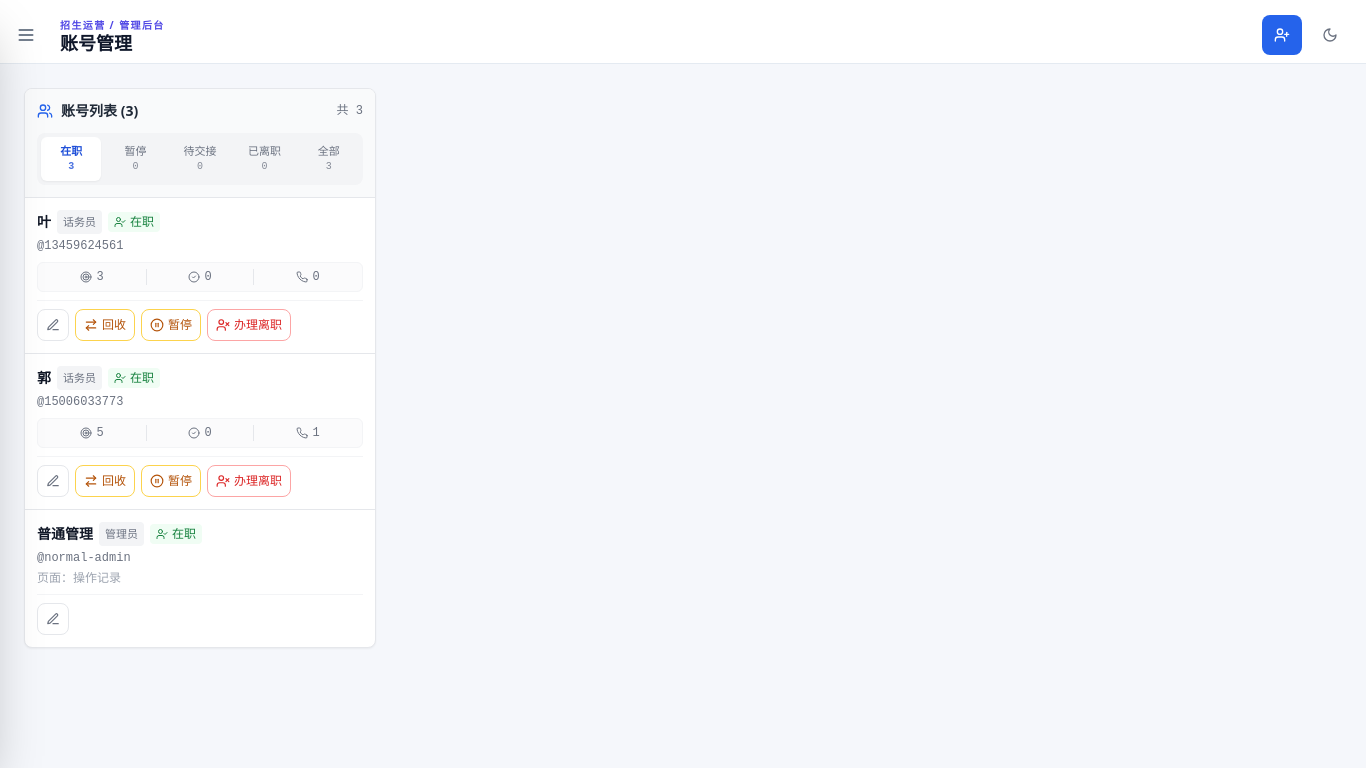
Test case: AgentManage mobile navigation › does not save status words as account display names
Expected: the text "叶" is shown, [37,212,51,232]
Click the button named "添加账号" at (1282, 35), box [1262,15,1302,55]
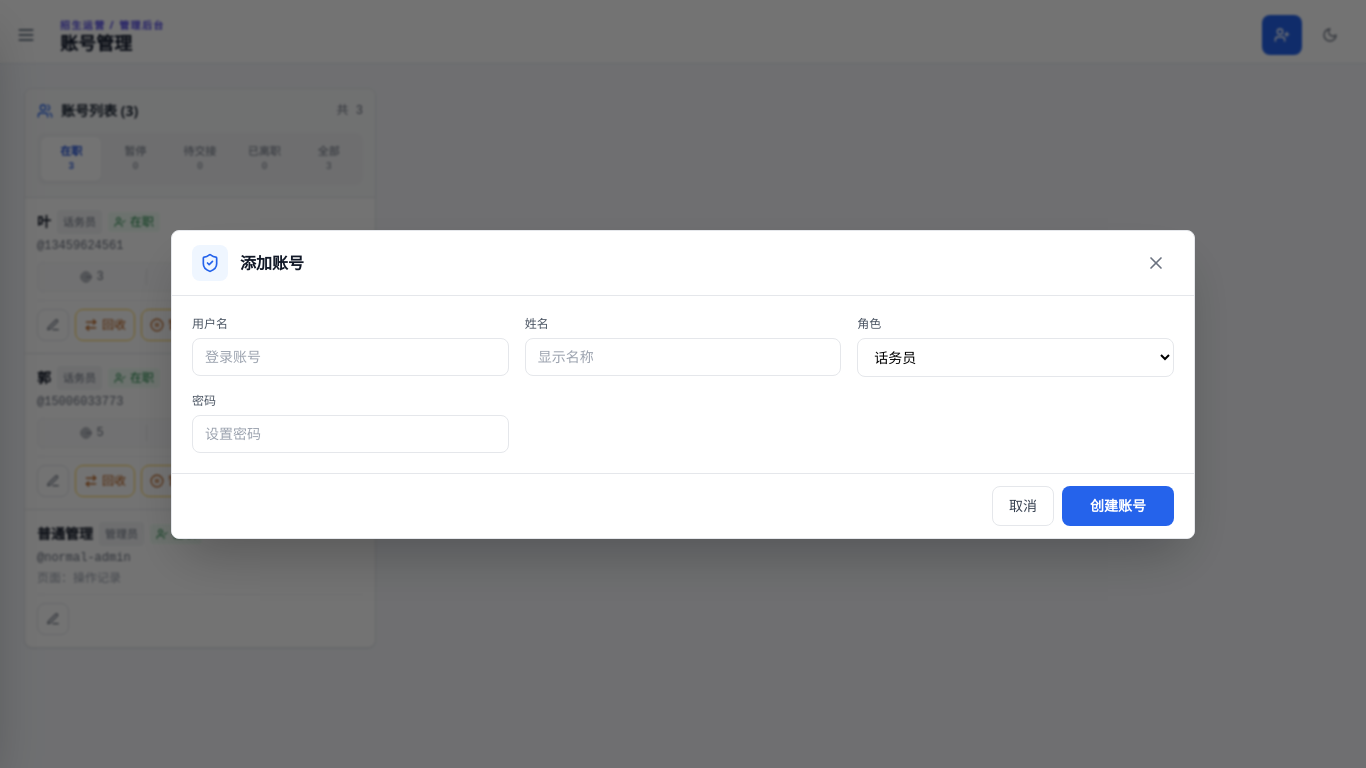
Type "bad-name" into the field with placeholder "登录账号" at (350, 356), box [192,338,509,376]
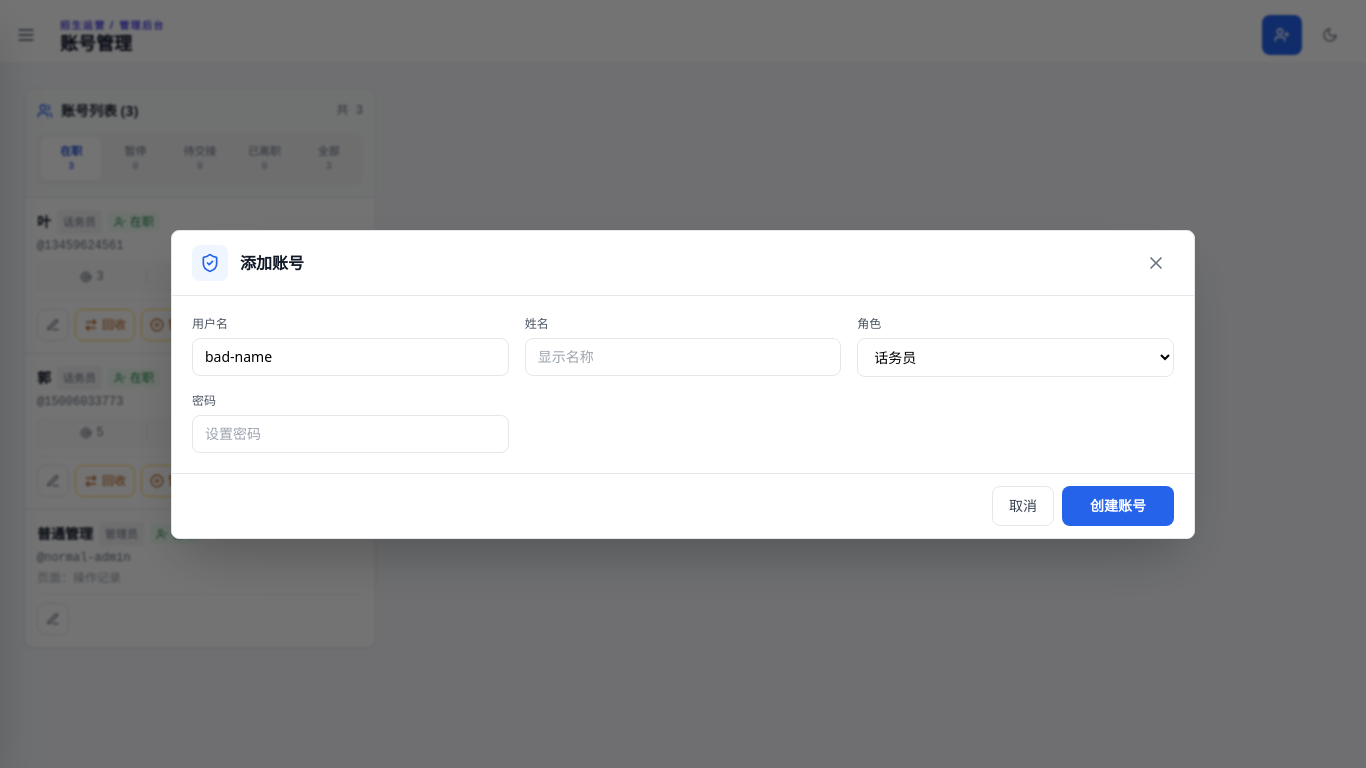
Type "离职" into the field with placeholder "显示名称" at (683, 356), box [525,338,841,376]
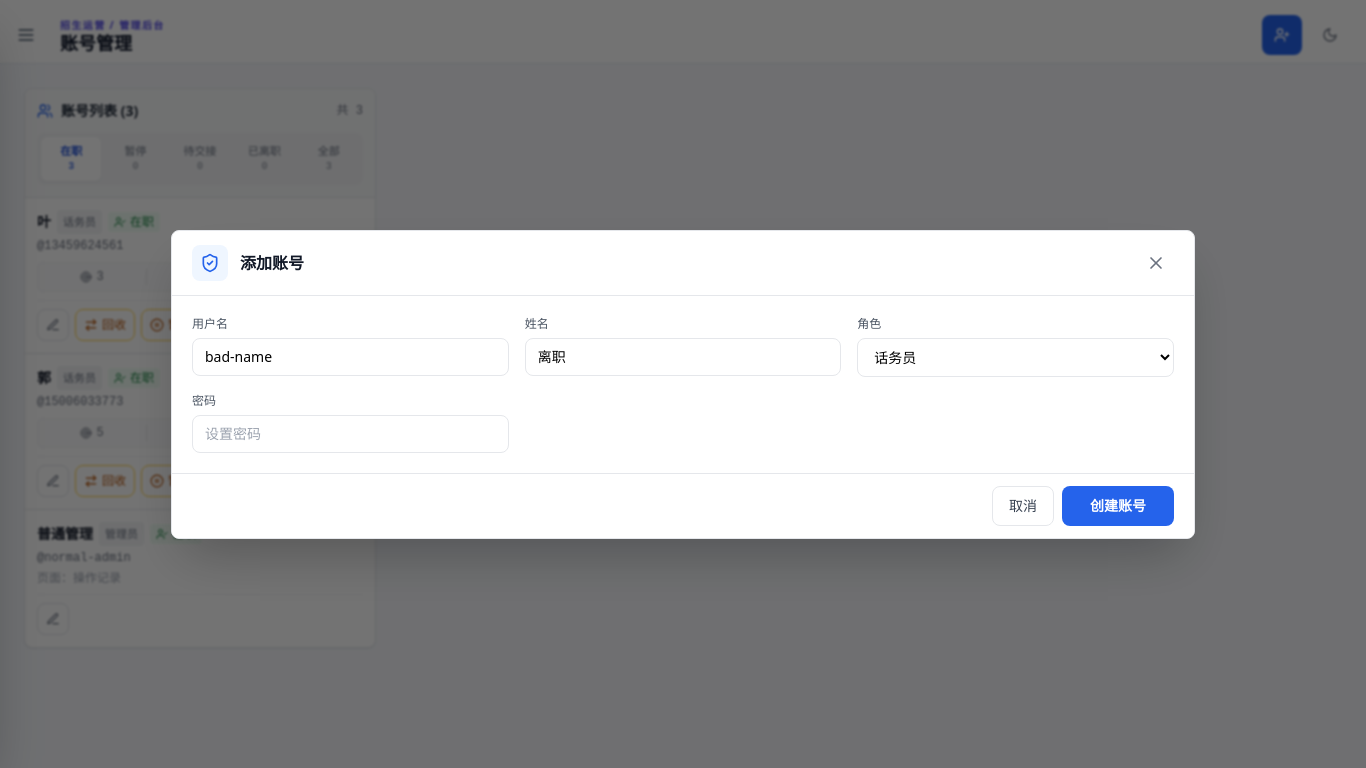
Type "pw123456" into the password field with placeholder "设置密码" at (350, 434), box [192,414,509,452]
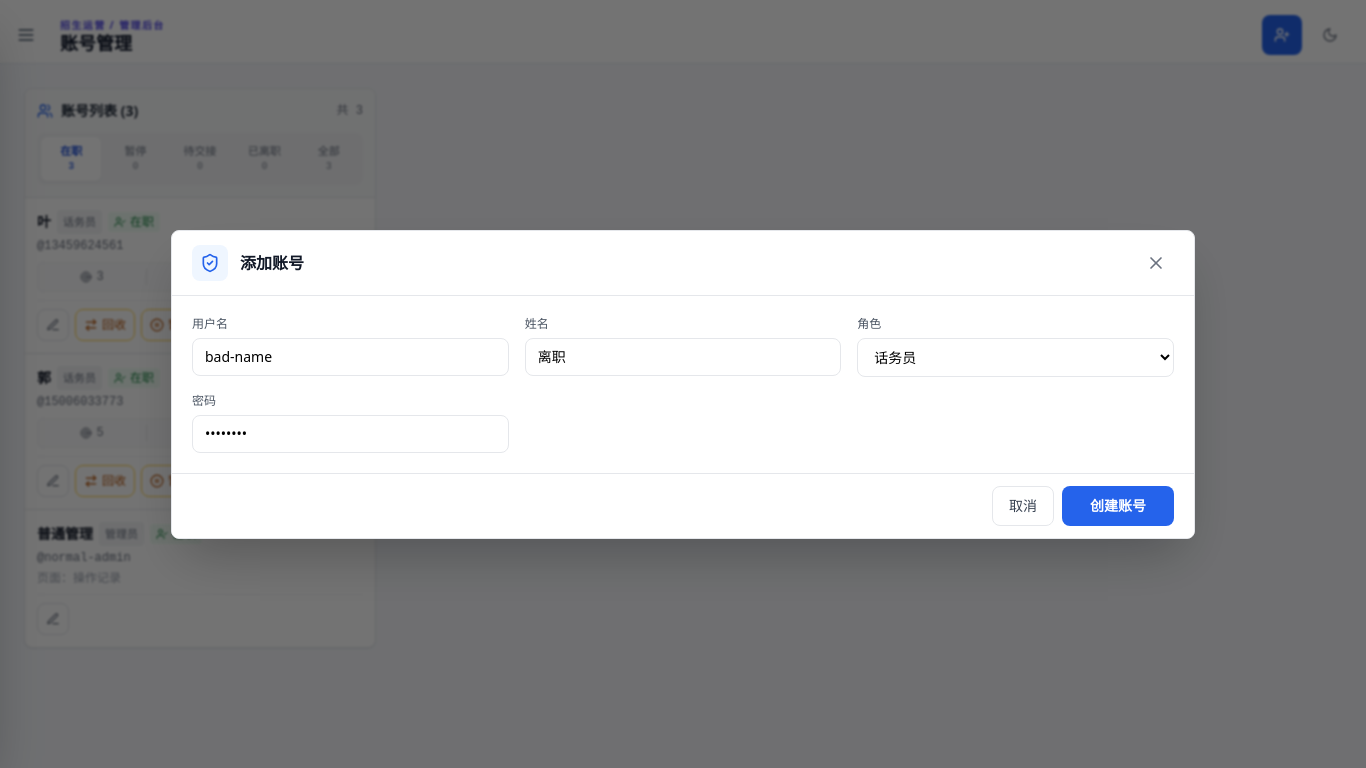
Click the button "创建账号" at (1118, 506), box [1062,486,1174,526]
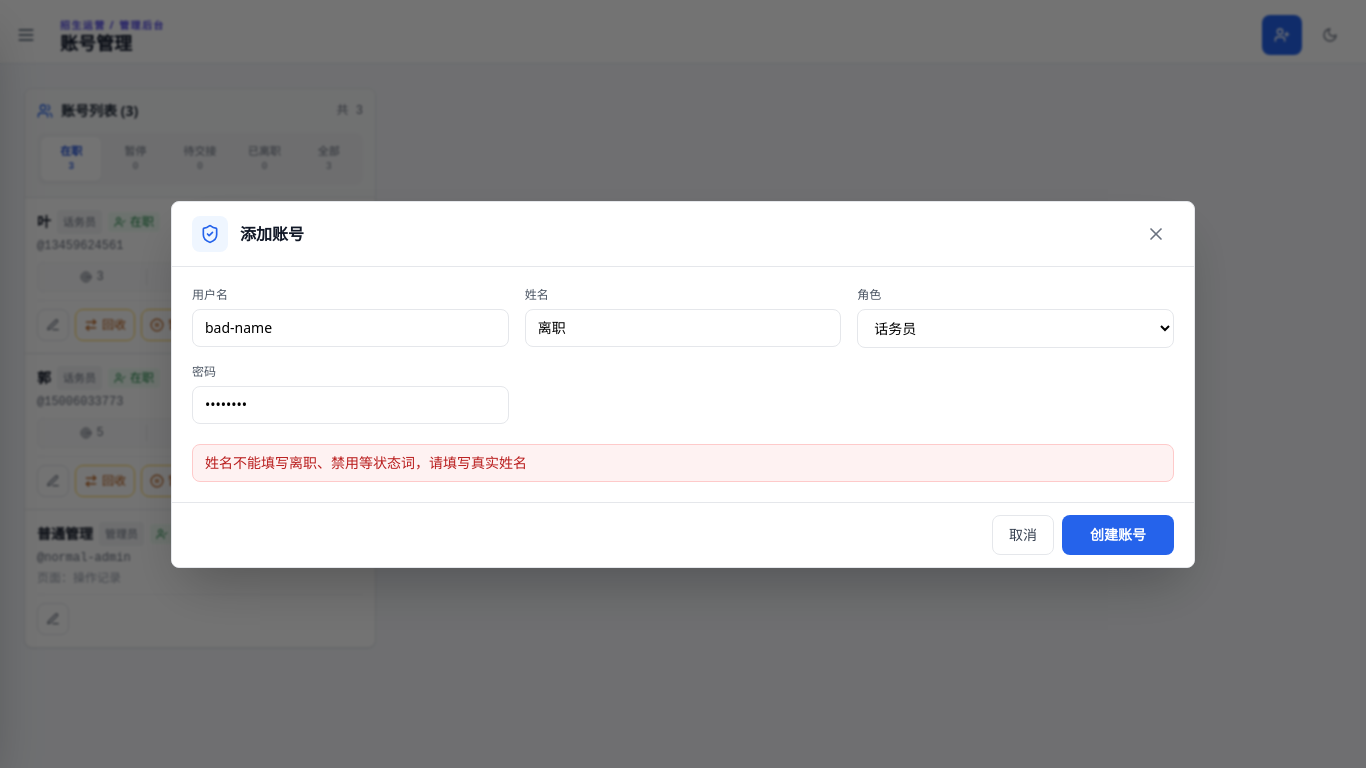
Now the text "姓名不能填写离职、禁用等状态词，请填写真实姓名" is shown, box [192,444,1174,482]
